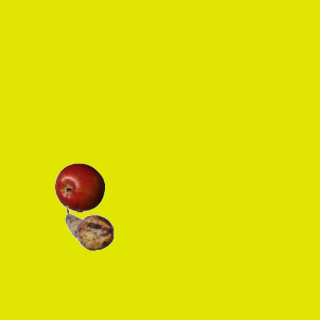Apple Braeburn: (54, 162, 104, 212)
Pear Abate: (64, 203, 114, 253)
